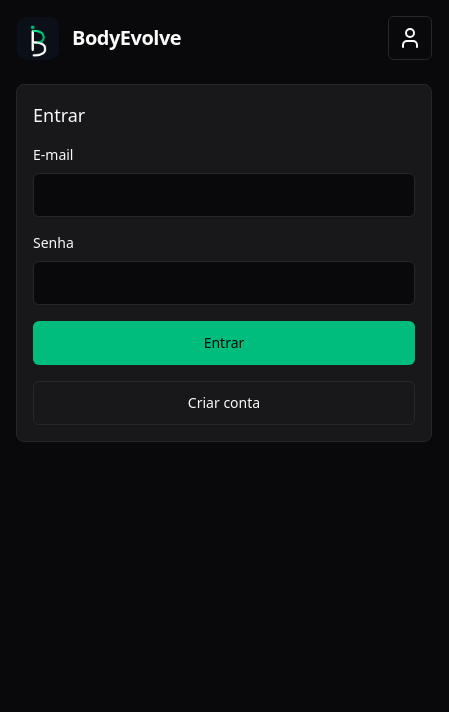
Test case: mostra a manutenção que a API devolveu
Type "ana@example.com" into the field labelled "E-mail". click: [224, 195]
box: [33, 173, 415, 217]
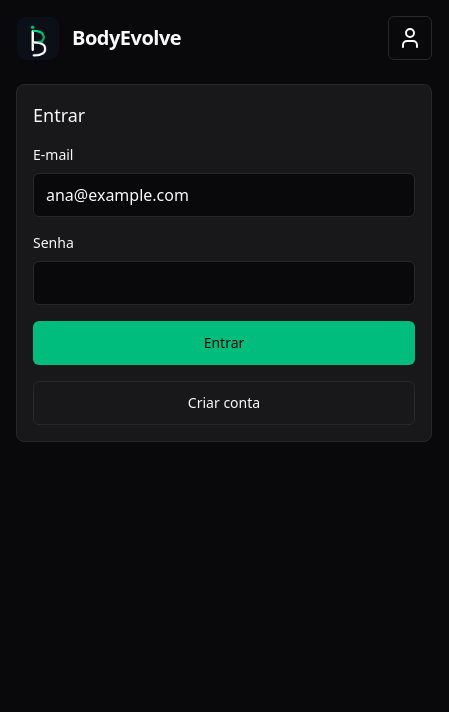
Type "senha-segura" into the password field labelled "Senha". click: [224, 283]
box: [33, 261, 415, 305]
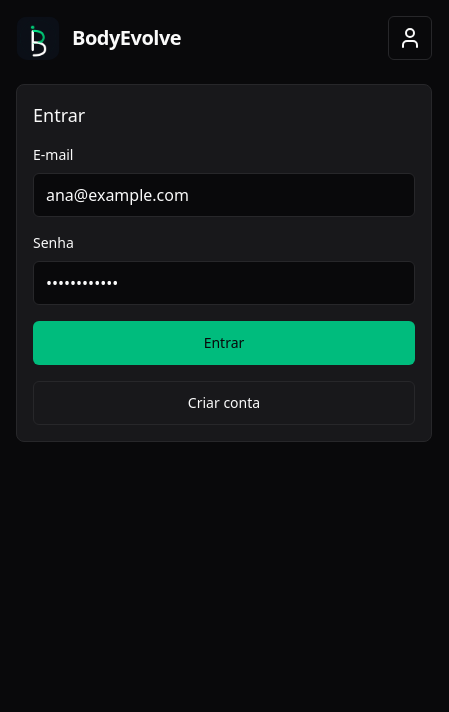
Submit the form "Entrar", box [33, 101, 415, 425]
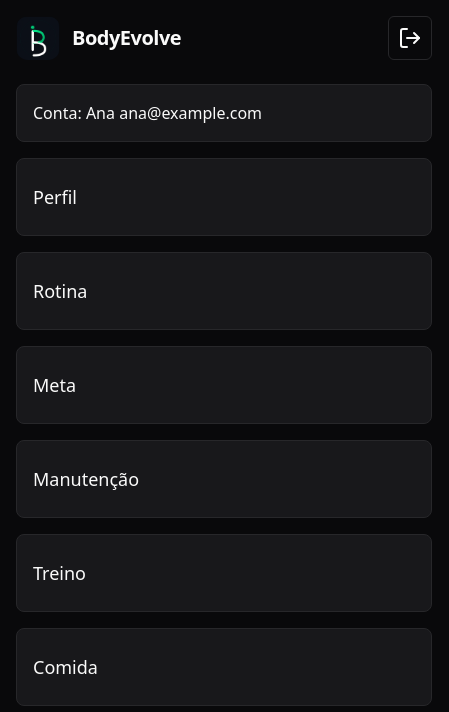
Click the link "Manutenção". click: [86, 479]
box: [33, 467, 139, 491]
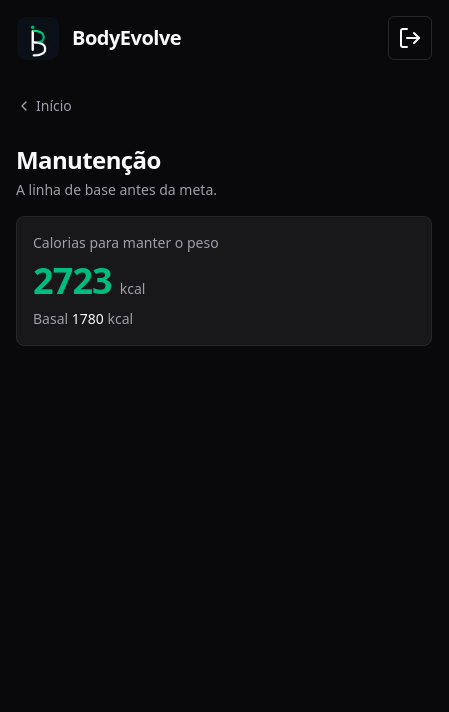
Expected: the text "2723" is shown, [33, 261, 112, 301]
Expected: the text "1780" is shown, [72, 309, 104, 328]
